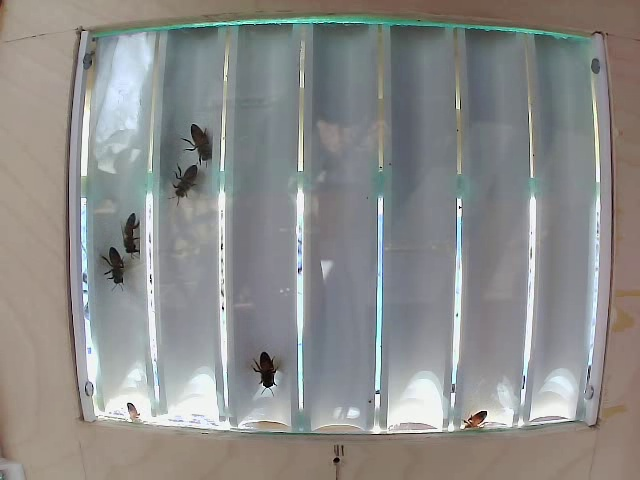bee: (104, 204, 153, 275), (247, 339, 291, 395), (168, 146, 201, 205), (98, 242, 136, 292), (184, 110, 221, 161)
